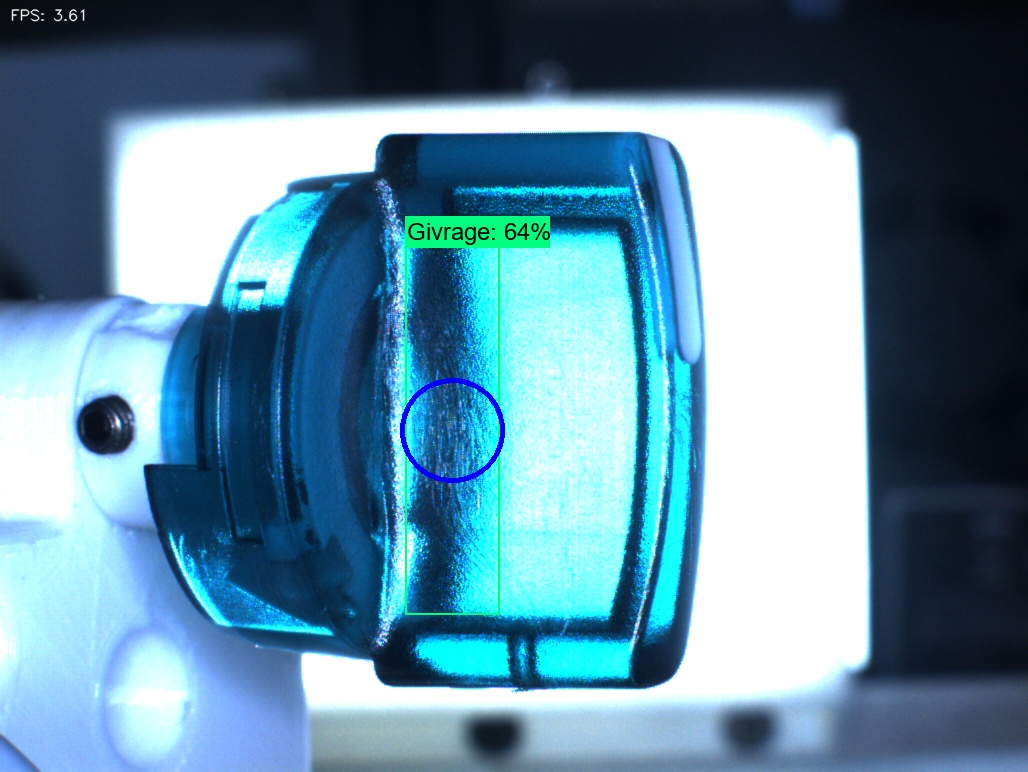Bulle: (484, 591, 568, 709)
